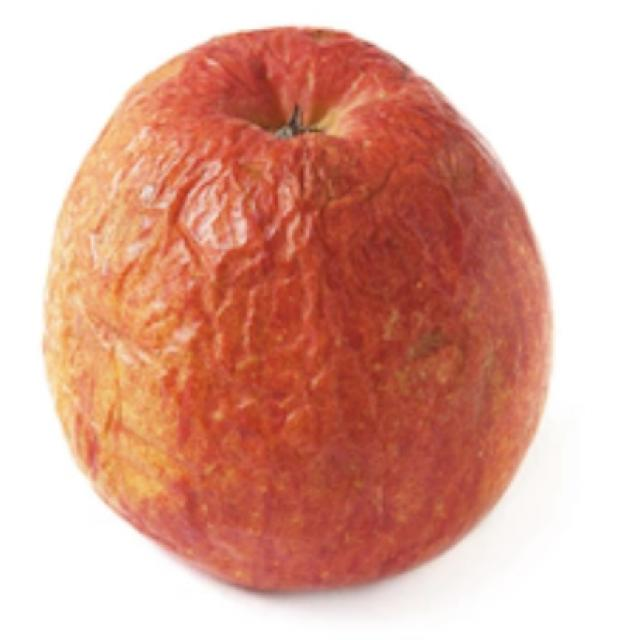rotten_apple: (46, 27, 552, 593)
